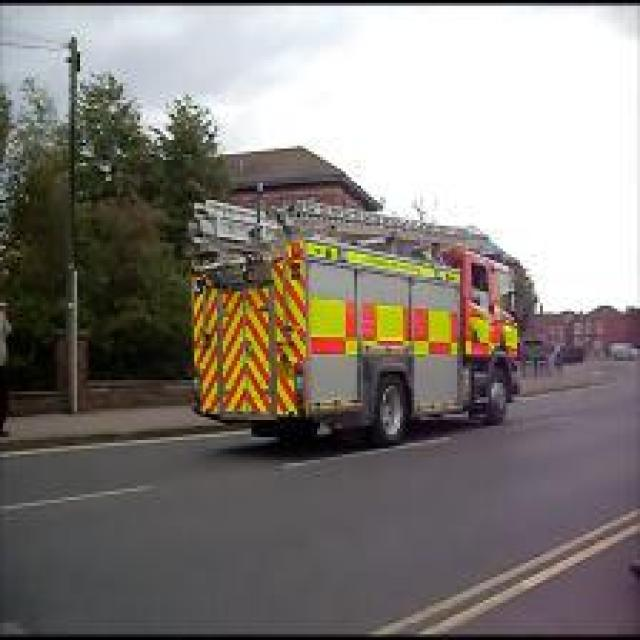other: (198, 251, 306, 404), (308, 295, 516, 352)
